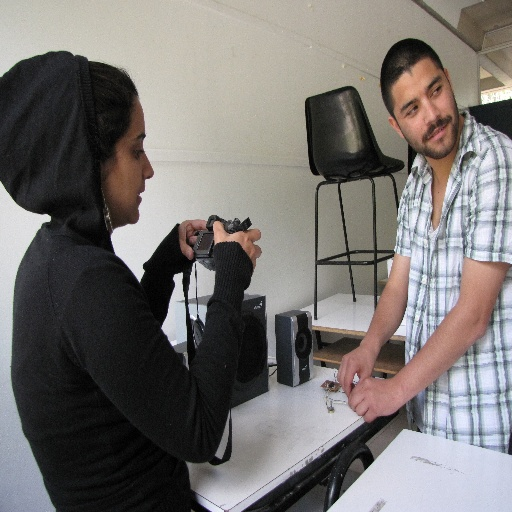hand: (344, 343, 413, 430), (213, 220, 262, 283), (335, 345, 378, 395), (179, 218, 207, 261)
